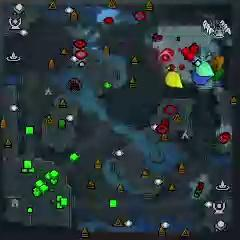p1: (192, 71, 212, 87)
p2: (195, 60, 215, 78)
p4: (165, 72, 185, 89)
x4: (212, 67, 223, 81)
x5: (210, 53, 224, 72)
